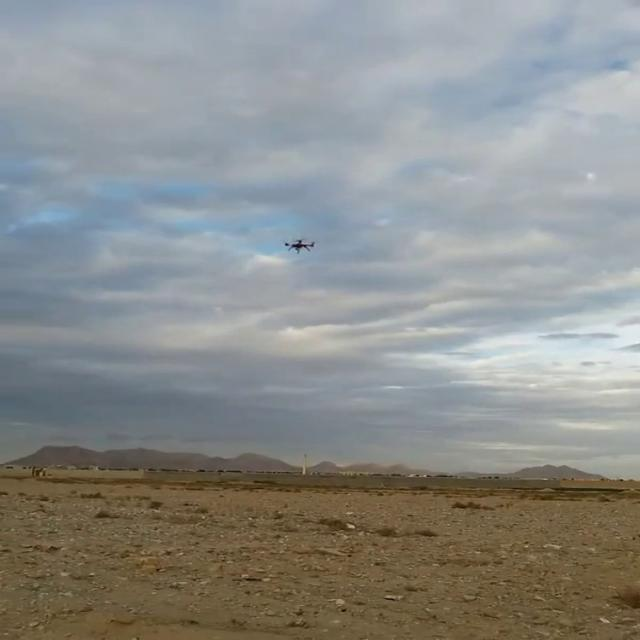drone: (277, 234, 319, 254)
